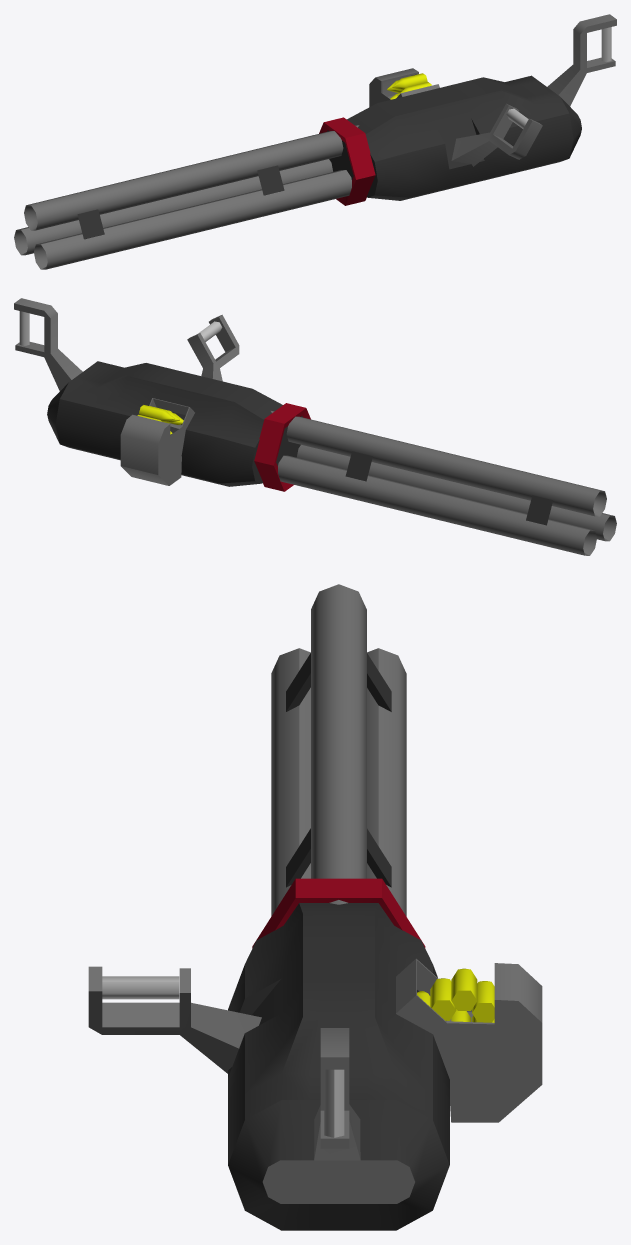
Rendered from MiniGun.fbx.
The picture shows the model from 3 angles, top to bottom: view 1: azimuth 30°, elevation 25°; view 2: azimuth 150°, elevation 25°; view 3: azimuth 270°, elevation 25°; orthographic projection. The views are drawn at different scales.
Parts seen in each view (by area): view 1: Cylinder, Cube, Cube.003, Cube.002, Circle.002, Cube.001, Circle.001, Circle, Cylinder.006; view 2: Cylinder, Cube, Cube.001, Cube.002, Circle.002, Cube.003, Circle.001, Circle, Cylinder.006; view 3: Cube, Cylinder, Cube.001, Cube.003, Cube.002, Circle.002, Cylinder.006, Circle.001, Circle.
Part boxes in pixels (bbox=[...]): Cylinder: bbox=[14, 125, 359, 269]; Cube: bbox=[347, 75, 581, 200]; Cube.003: bbox=[451, 103, 542, 166]; Cube.002: bbox=[547, 14, 616, 106]; Circle.002: bbox=[319, 117, 375, 205]; Cube.001: bbox=[369, 68, 439, 106]; Circle.001: bbox=[77, 209, 104, 239]; Circle: bbox=[257, 165, 284, 195]; Cylinder.006: bbox=[387, 73, 431, 99]; Cylinder: bbox=[271, 411, 616, 555]; Cube: bbox=[47, 361, 282, 486]; Cube.001: bbox=[120, 398, 194, 485]; Cube.002: bbox=[14, 298, 82, 391]; Circle.002: bbox=[254, 403, 310, 491]; Cube.003: bbox=[187, 314, 239, 381]; Circle.001: bbox=[526, 495, 553, 525]; Circle: bbox=[345, 451, 372, 481]; Cylinder.006: bbox=[137, 405, 183, 434]; Cube: bbox=[228, 903, 449, 1230]; Cylinder: bbox=[271, 584, 406, 916]; Cube.001: bbox=[396, 958, 542, 1122]; Cube.003: bbox=[88, 966, 261, 1073]; Cube.002: bbox=[314, 1028, 360, 1160]; Circle.002: bbox=[252, 878, 425, 948]; Cylinder.006: bbox=[417, 968, 494, 1022]; Circle.001: bbox=[286, 653, 391, 711]; Circle: bbox=[286, 828, 391, 887].
Size of the model in its own units: 1860 by 364 by 629.
